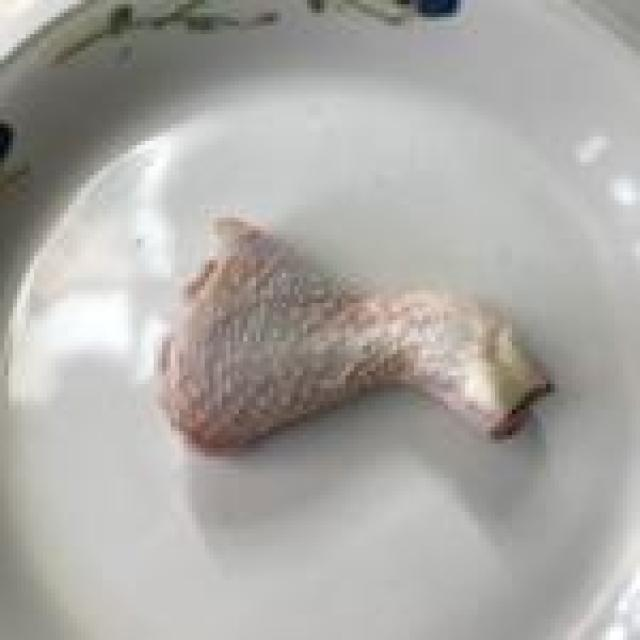leg: (118, 200, 563, 476)
